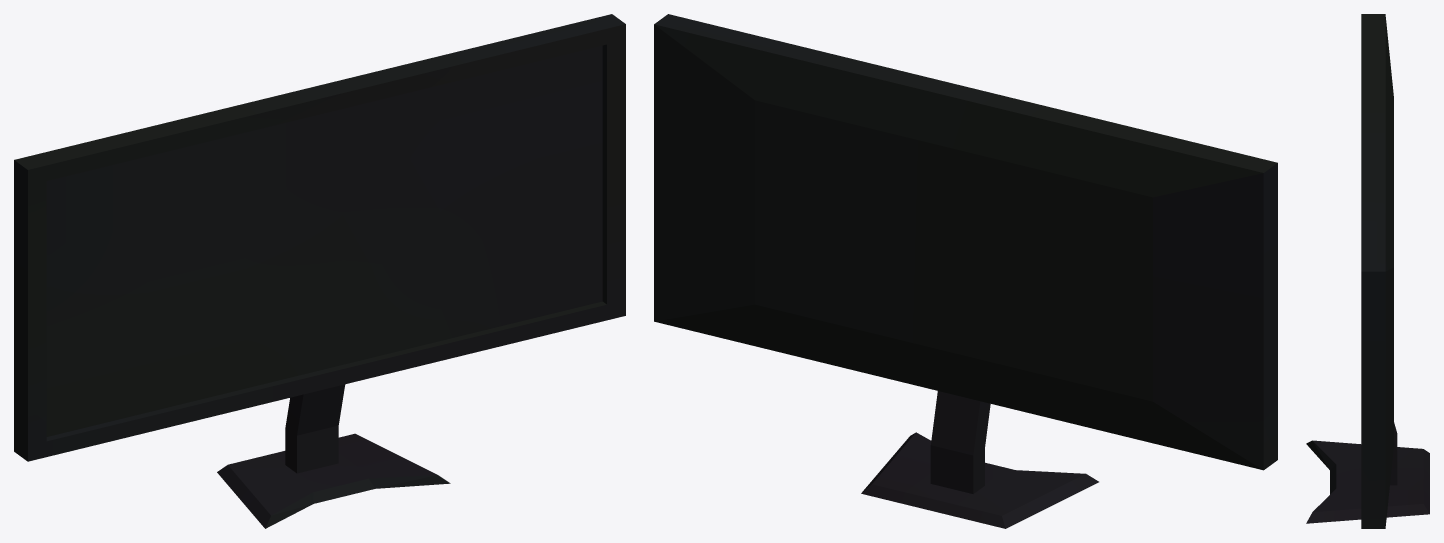
The model's file is heart_monitor.glb.
3 renders of one model, left to right at view 1: azimuth 30°, elevation 25°; view 2: azimuth 150°, elevation 25°; view 3: azimuth 270°, elevation 25°, orthographic. The views are drawn at different scales.
Parts seen in each view (by area): view 1: Monitor; view 2: Monitor; view 3: Monitor.
Boxes of the visible parts, x1=… form: Monitor: x1=14, y1=14, x2=625, y2=528; Monitor: x1=654, y1=14, x2=1277, y2=528; Monitor: x1=1306, y1=14, x2=1429, y2=528.
Bounding box in the file's own units: 0.4696 × 0.2899 × 0.0955.
1 material, 1 textured.
